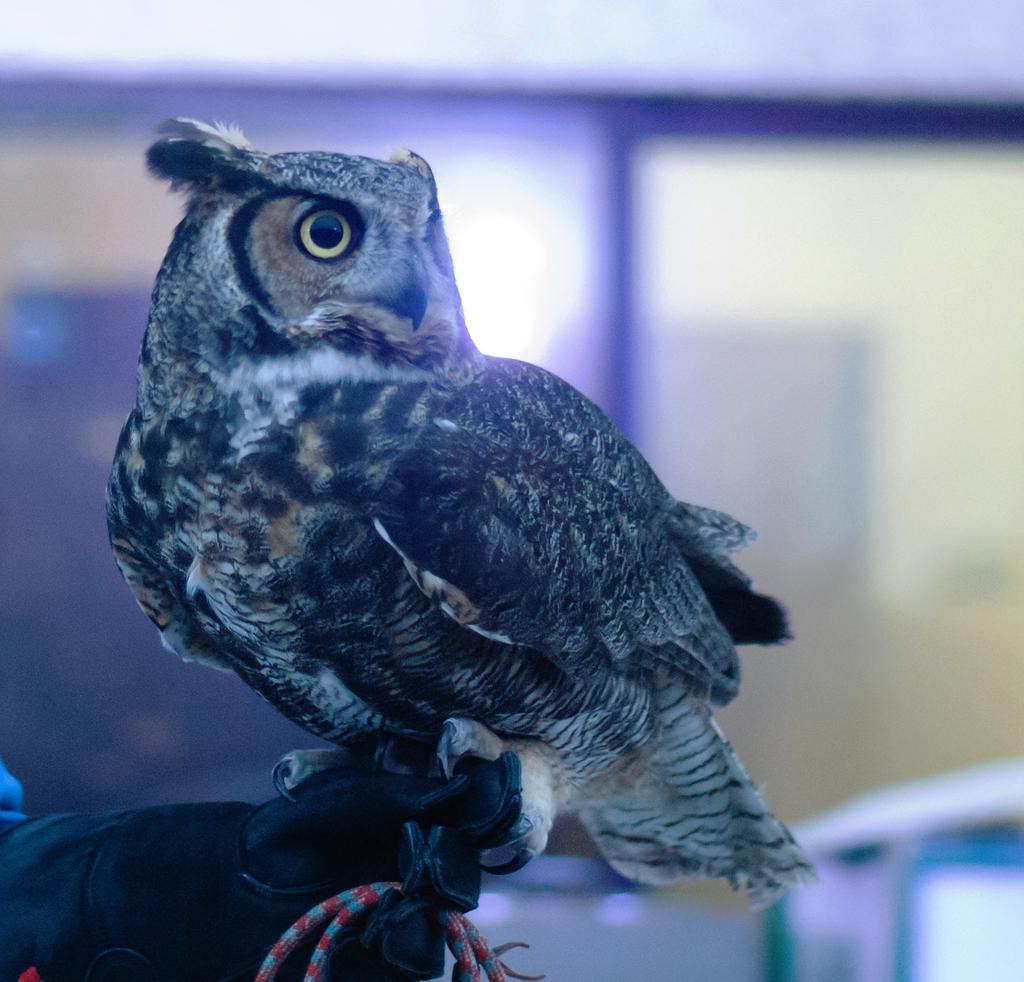Owl: (94, 114, 816, 912)
